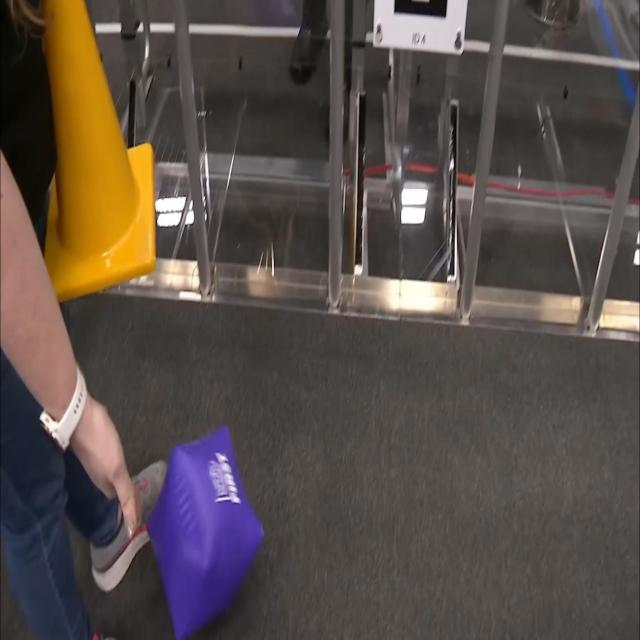frc_cone: (28, 0, 163, 293)
frc_cube: (150, 432, 263, 640)
